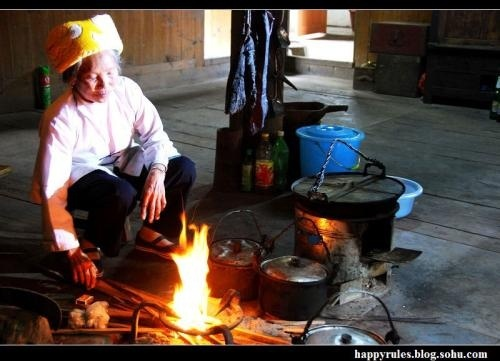fire: (167, 210, 218, 332), (61, 14, 124, 67), (315, 216, 334, 235)
